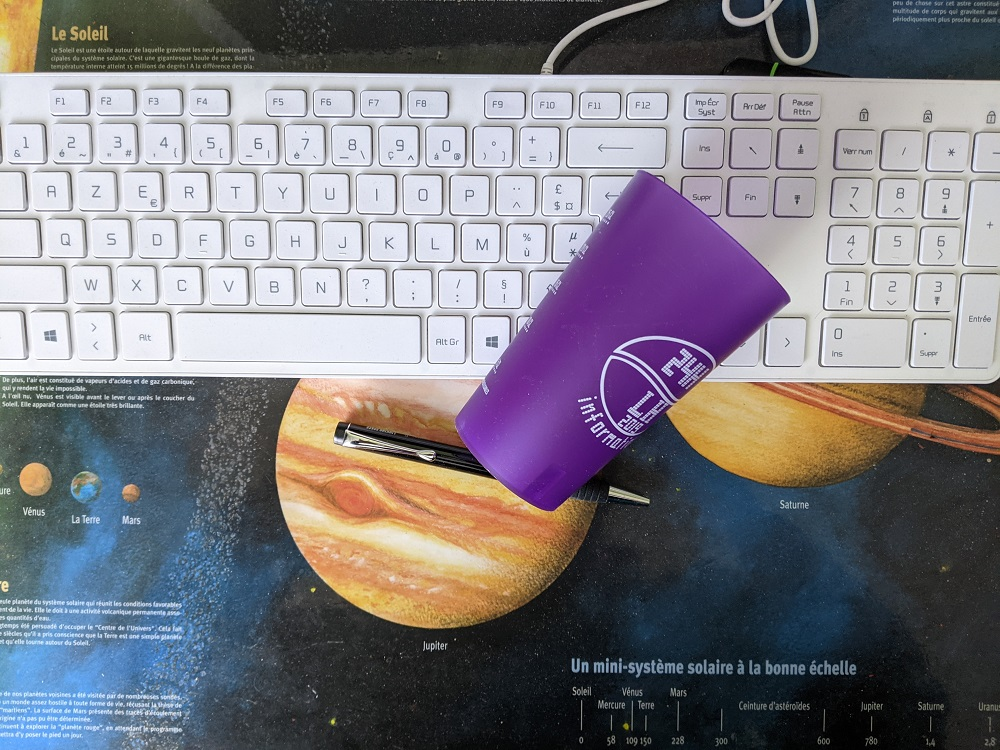ecocup: (454, 170, 791, 511)
